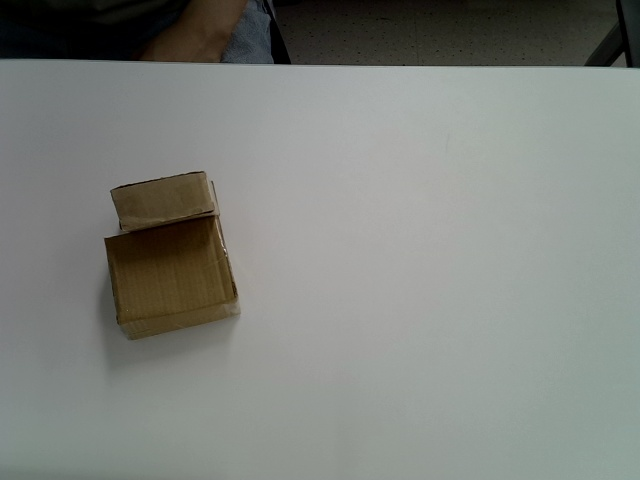normal: (103, 214, 239, 341), (110, 170, 221, 233)
